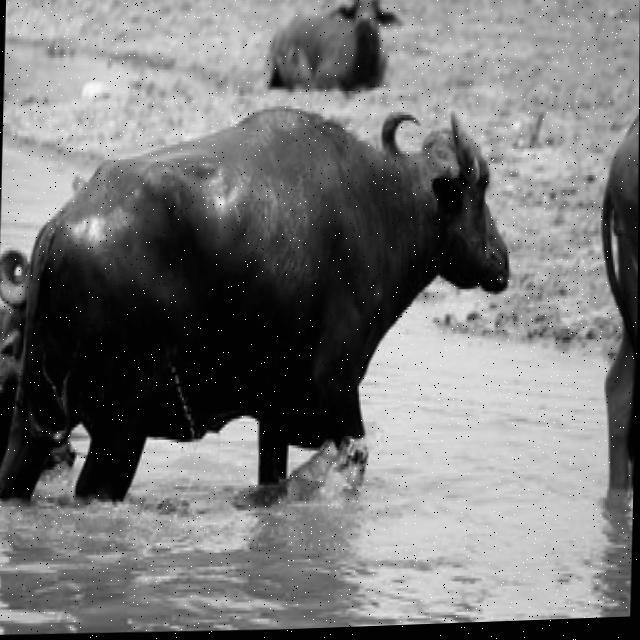Buffalo: (0, 100, 514, 515)
